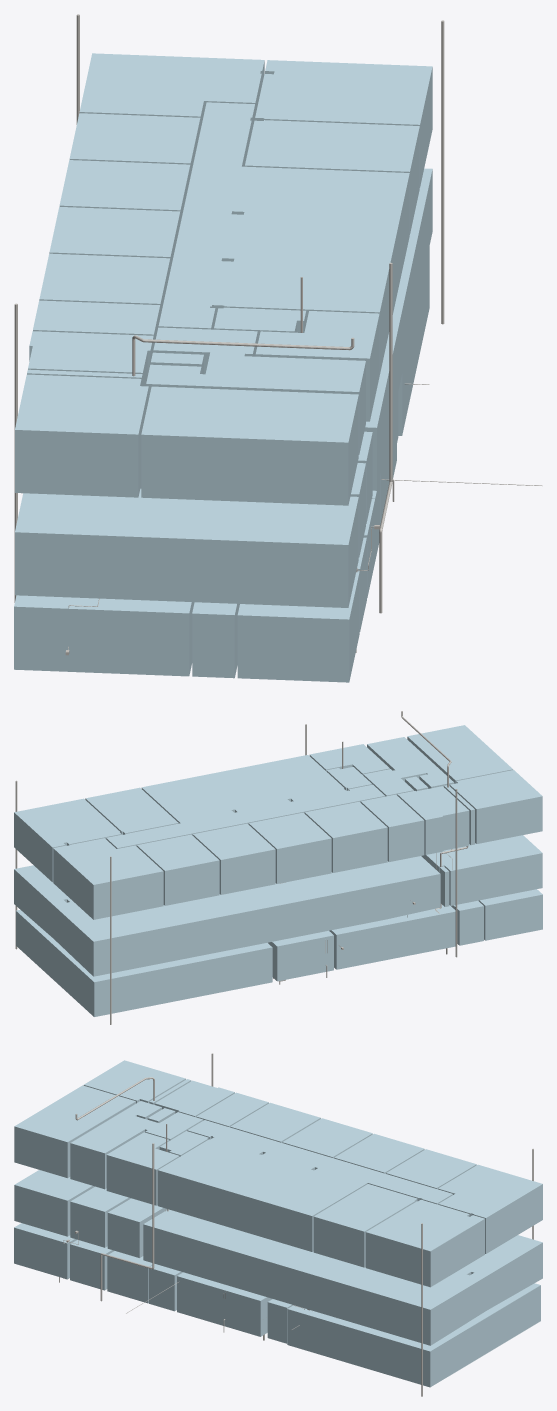
The picture shows the model from 3 angles, top to bottom: view 1: azimuth 30°, elevation 25°; view 2: azimuth 150°, elevation 25°; view 3: azimuth 270°, elevation 25°; orthographic projection. The views are drawn at different scales.
Parts seen in each view (by area): view 1: 1Ovwbgwu19juGHpFun2U66, 1Ovwbgwu19juGHpFun2U6T, 1Ovwbgwu19juGHpFun2U6I, 1Ovwbgwu19juGHpFun2U6G, 1VGjxmFjn94uK2rWZwBG0B, 1Ovwbgwu19juGHpFun2U6U, 1Ovwbgwu19juGHpFun2U6V, 1Ovwbgwu19juGHpFun2U6N, 1VGjxmFjn94uK2rWZwBG09, 1Ovwbgwu19juGHpFun2U6Q, 1Ovwbgwu19juGHpFun2U6J, 1Ovwbgwu19juGHpFun2U6O (+17 smaller); view 2: 1Ovwbgwu19juGHpFun2U60, 1VGjxmFjn94uK2rWZwBG0F, 1Ovwbgwu19juGHpFun2U6T, 1Ovwbgwu19juGHpFun2U6N, 1Ovwbgwu19juGHpFun2U66, 1VGjxmFjn94uK2rWZwBG04, 1Ovwbgwu19juGHpFun2U6G, 1Ovwbgwu19juGHpFun2U6V, 1Ovwbgwu19juGHpFun2U6L, 1Ovwbgwu19juGHpFun2U6B, 1Ovwbgwu19juGHpFun2U6U, 1Ovwbgwu19juGHpFun2U6K (+18 smaller); view 3: 1Ovwbgwu19juGHpFun2U60, 1Ovwbgwu19juGHpFun2U6T, 1VGjxmFjn94uK2rWZwBG0F, 1Ovwbgwu19juGHpFun2U6V, 1Ovwbgwu19juGHpFun2U6N, 1Ovwbgwu19juGHpFun2U6Q, 1Ovwbgwu19juGHpFun2U6I, 1Ovwbgwu19juGHpFun2U6U, 1VGjxmFjn94uK2rWZwBG07, 1Ovwbgwu19juGHpFun2U66, 1Ovwbgwu19juGHpFun2U69, 1Ovwbgwu19juGHpFun2U6O (+17 smaller).
Boxes of the visible parts, box(x1,y1,x2,y2) form: 1Ovwbgwu19juGHpFun2U66: box(15, 485, 358, 607); 1Ovwbgwu19juGHpFun2U6T: box(212, 166, 409, 374); 1Ovwbgwu19juGHpFun2U6I: box(212, 390, 358, 505); 1Ovwbgwu19juGHpFun2U6G: box(15, 374, 148, 497); 1VGjxmFjn94uK2rWZwBG0B: box(14, 595, 194, 676); 1Ovwbgwu19juGHpFun2U6U: box(158, 102, 255, 329); 1Ovwbgwu19juGHpFun2U6V: box(255, 60, 432, 187); 1Ovwbgwu19juGHpFun2U6N: box(79, 53, 264, 130); 1VGjxmFjn94uK2rWZwBG09: box(237, 571, 359, 682); 1Ovwbgwu19juGHpFun2U6Q: box(245, 120, 419, 234); 1Ovwbgwu19juGHpFun2U6J: box(141, 386, 246, 500); 1Ovwbgwu19juGHpFun2U6O: box(197, 352, 365, 454); 1Ovwbgwu19juGHpFun2U60: box(14, 865, 386, 976); 1VGjxmFjn94uK2rWZwBG0F: box(16, 909, 272, 1016); 1Ovwbgwu19juGHpFun2U6T: box(141, 755, 345, 823); 1Ovwbgwu19juGHpFun2U6N: box(53, 838, 163, 919); 1Ovwbgwu19juGHpFun2U66: box(421, 835, 542, 905); 1VGjxmFjn94uK2rWZwBG04: box(329, 904, 455, 969); 1Ovwbgwu19juGHpFun2U6G: box(449, 770, 542, 843); 1Ovwbgwu19juGHpFun2U6V: box(14, 798, 121, 882); 1Ovwbgwu19juGHpFun2U6L: box(192, 823, 275, 894); 1Ovwbgwu19juGHpFun2U6B: box(304, 801, 387, 872); 1Ovwbgwu19juGHpFun2U6U: box(106, 784, 385, 848); 1Ovwbgwu19juGHpFun2U6K: box(248, 812, 331, 883); 1Ovwbgwu19juGHpFun2U60: box(143, 1209, 542, 1345); 1Ovwbgwu19juGHpFun2U6T: box(157, 1137, 367, 1251); 1VGjxmFjn94uK2rWZwBG0F: box(287, 1283, 540, 1387); 1Ovwbgwu19juGHpFun2U6V: box(365, 1199, 484, 1287); 1Ovwbgwu19juGHpFun2U6N: box(438, 1164, 542, 1253); 1Ovwbgwu19juGHpFun2U6Q: box(313, 1184, 417, 1267); 1Ovwbgwu19juGHpFun2U6I: box(14, 1099, 104, 1178); 1Ovwbgwu19juGHpFun2U6U: box(187, 1120, 452, 1204); 1VGjxmFjn94uK2rWZwBG07: box(177, 1272, 272, 1336); 1Ovwbgwu19juGHpFun2U66: box(14, 1170, 94, 1236); 1Ovwbgwu19juGHpFun2U69: box(106, 1132, 179, 1205); 1Ovwbgwu19juGHpFun2U6O: box(70, 1111, 158, 1189).
Bounding box in the file's own units: 27.95 × 11.7 × 32.47.
